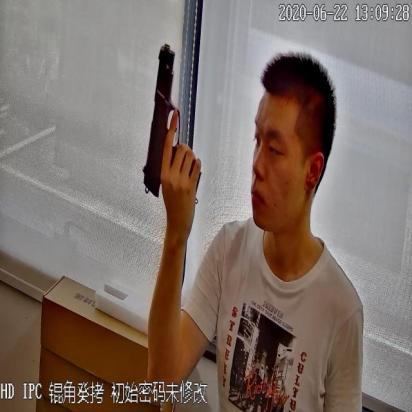Gun: (134, 34, 202, 207)
